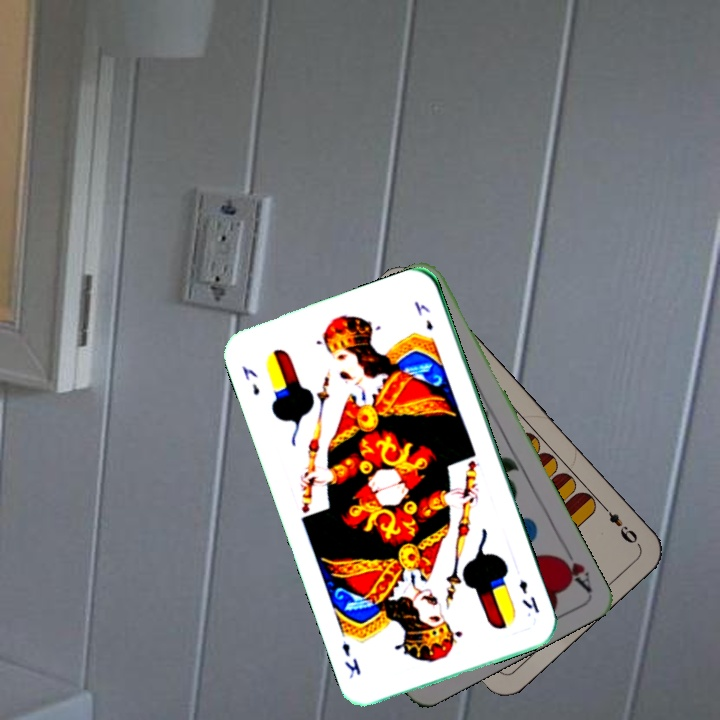E9: (597, 500, 642, 548)
EK: (514, 576, 542, 616), (238, 361, 263, 398)
HA: (552, 540, 594, 594)
